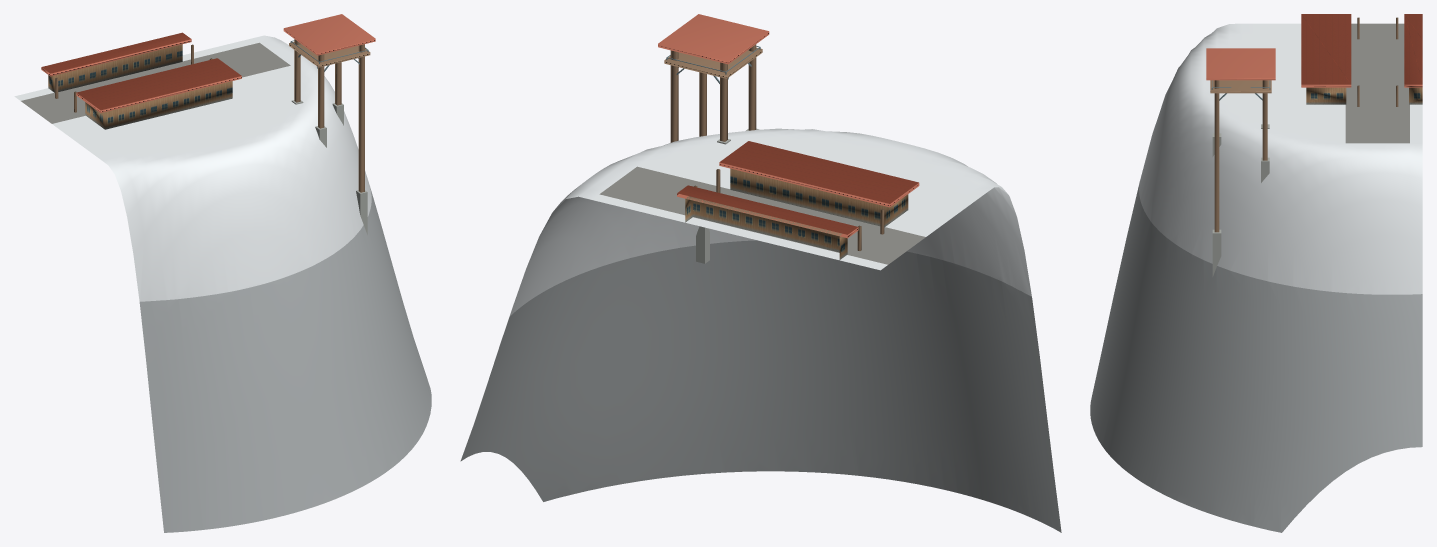
Rendered from alpine-13-12.glb.
3 renders of one model, left to right at view 1: azimuth 30°, elevation 25°; view 2: azimuth 150°, elevation 25°; view 3: azimuth 270°, elevation 25°, orthographic. The views are drawn at different scales.
Visible parts, largest first — view 1: alpine-13-12; view 2: alpine-13-12; view 3: alpine-13-12.
Boxes of the visible parts, bbox=[...] form: alpine-13-12: bbox=[14, 14, 431, 532]; alpine-13-12: bbox=[460, 14, 1061, 532]; alpine-13-12: bbox=[1090, 14, 1422, 532].
Size of the model in its own units: 256 by 281 by 207.
13 materials, 13 textured.
